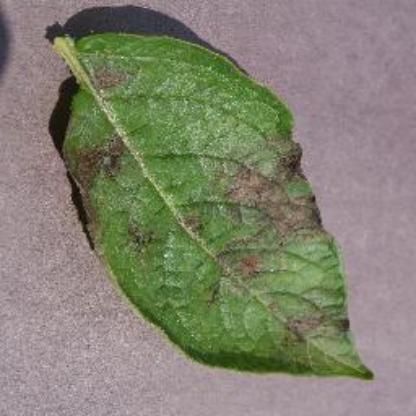Late-Blight: (42, 22, 382, 384)
